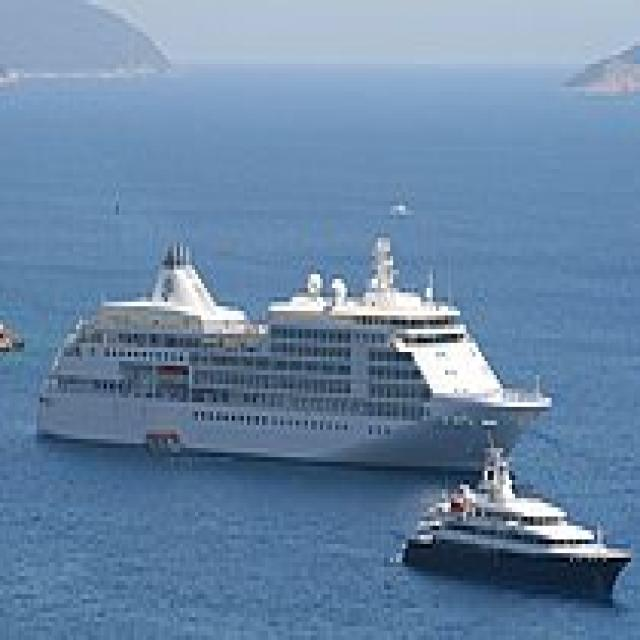Cruise: (31, 228, 554, 476)
